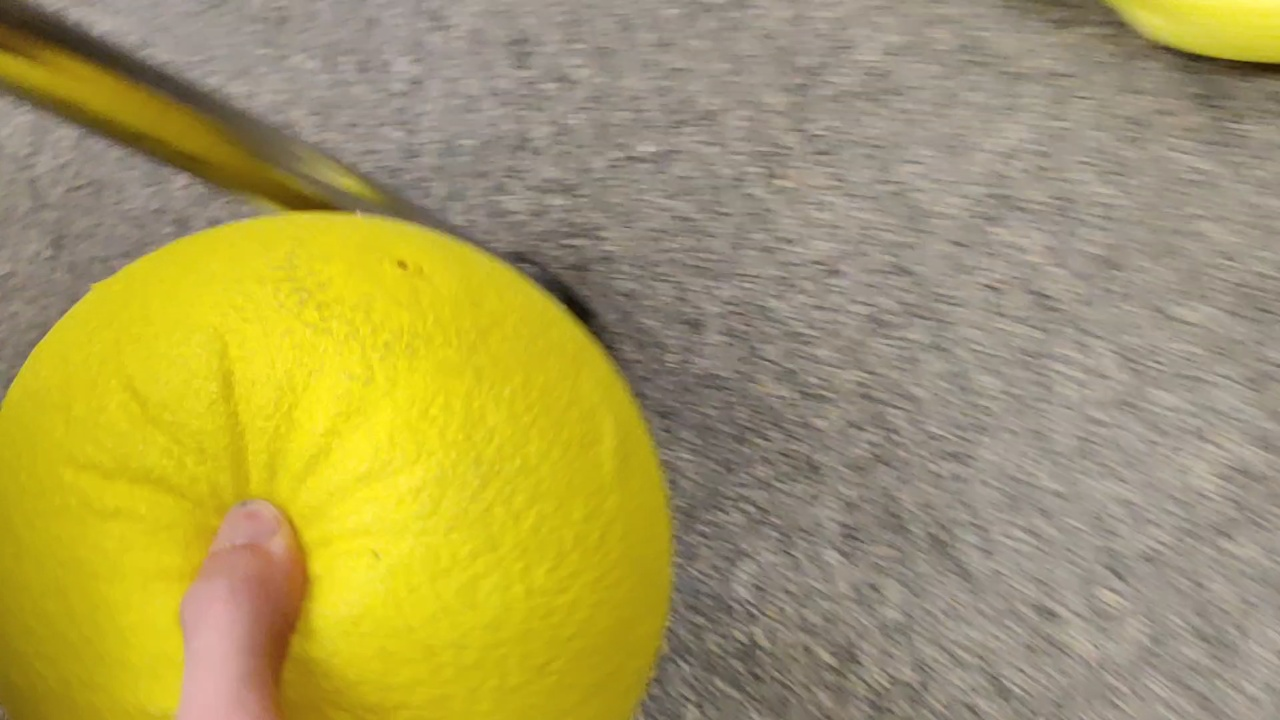Ball: (1, 211, 673, 718)
